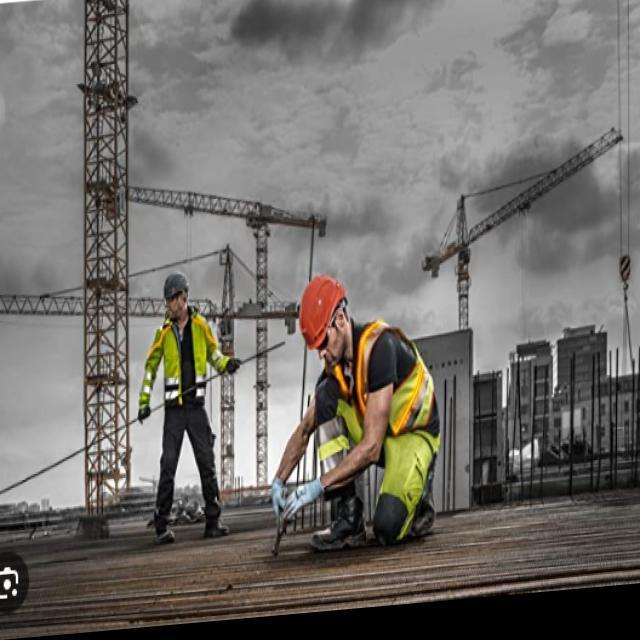helmet: (295, 269, 351, 361), (162, 268, 191, 324)
vest: (314, 311, 439, 446), (154, 305, 218, 414)
